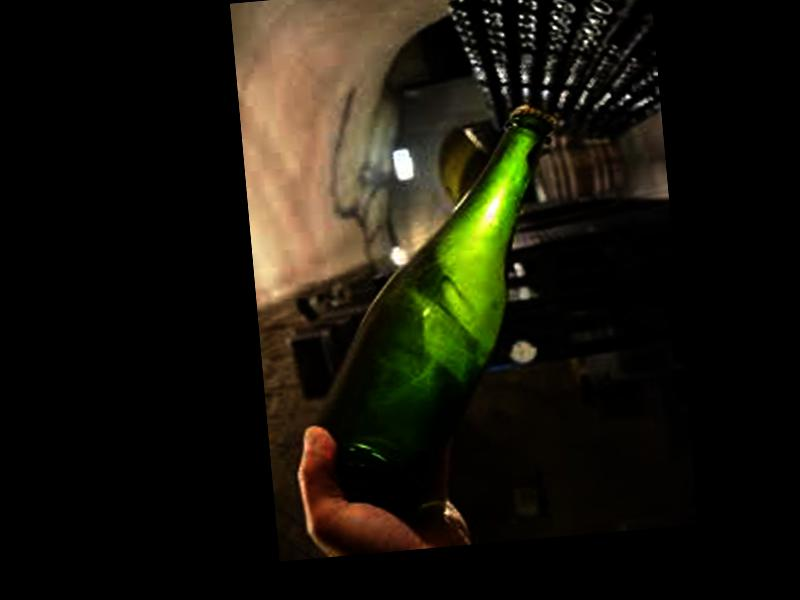Beer: (280, 100, 594, 519)
